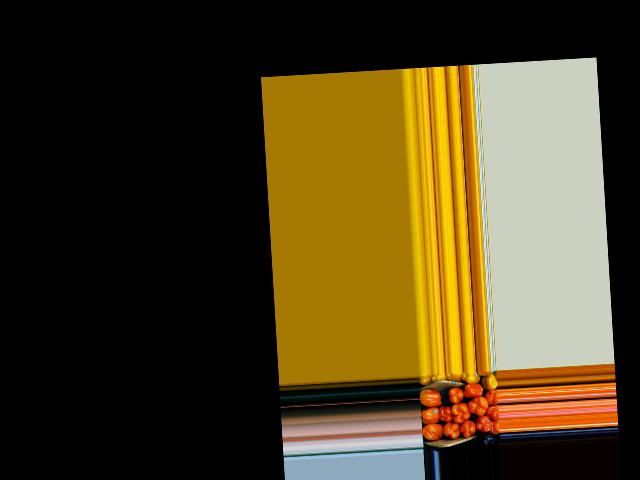bell_pepper: (458, 372, 481, 383)
